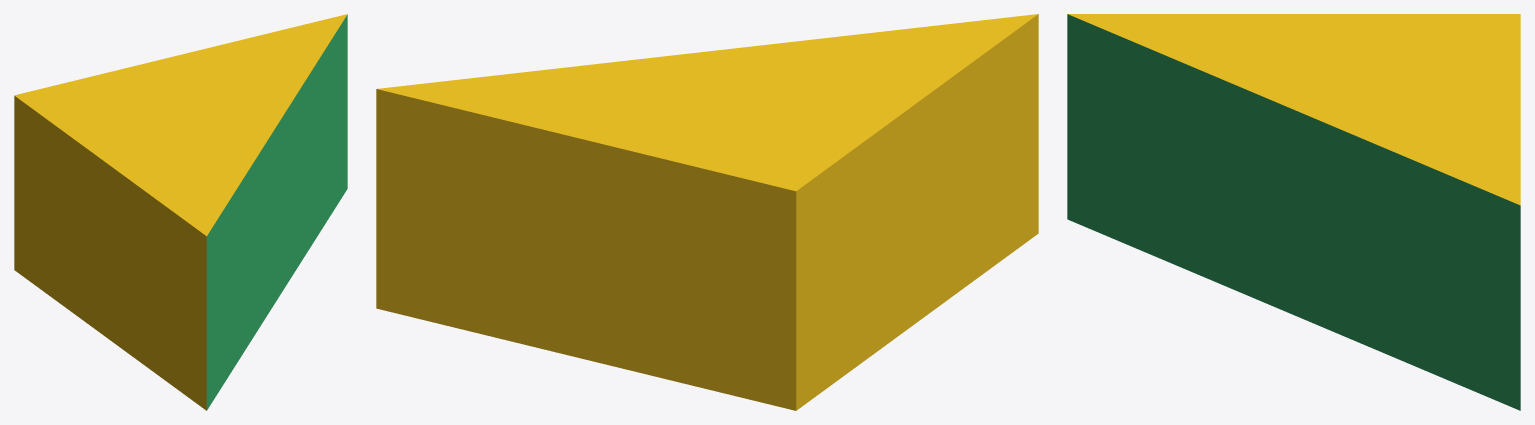
The model's file is r6c8_body_green.gltf.
3 views of the same model, side by side, from view 1: azimuth 30°, elevation 25°; view 2: azimuth 150°, elevation 25°; view 3: azimuth 270°, elevation 25° (orthographic). The views are drawn at different scales.
Parts seen in each view (by area): view 1: r6c8_body_green; view 2: r6c8_body_green; view 3: r6c8_body_green.
Part boxes in pixels (x1,y1,x2,y2): r6c8_body_green: [14, 14, 347, 410]; r6c8_body_green: [376, 14, 1038, 410]; r6c8_body_green: [1067, 14, 1520, 410].
Size of what is drawn, in the model's own units: 2 by 1 by 2.
Materials: 1 (1 with a texture image).
